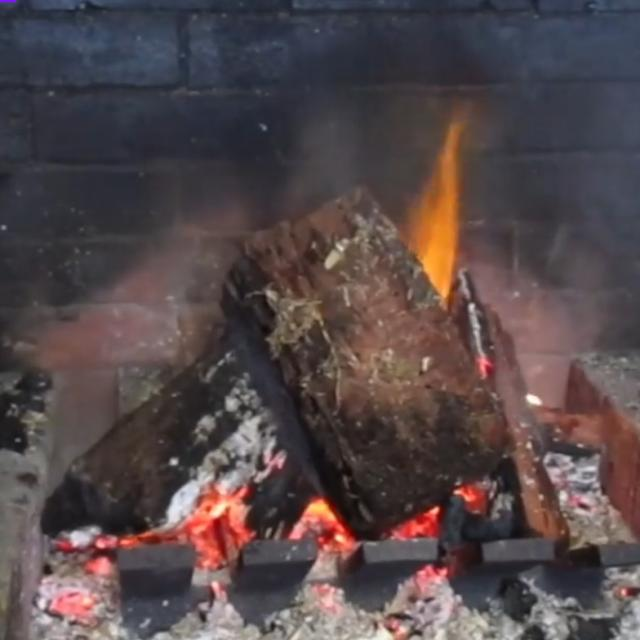fire: (402, 103, 462, 305), (119, 486, 255, 570), (47, 529, 117, 629), (288, 499, 357, 563), (388, 507, 437, 541), (307, 582, 343, 618)
